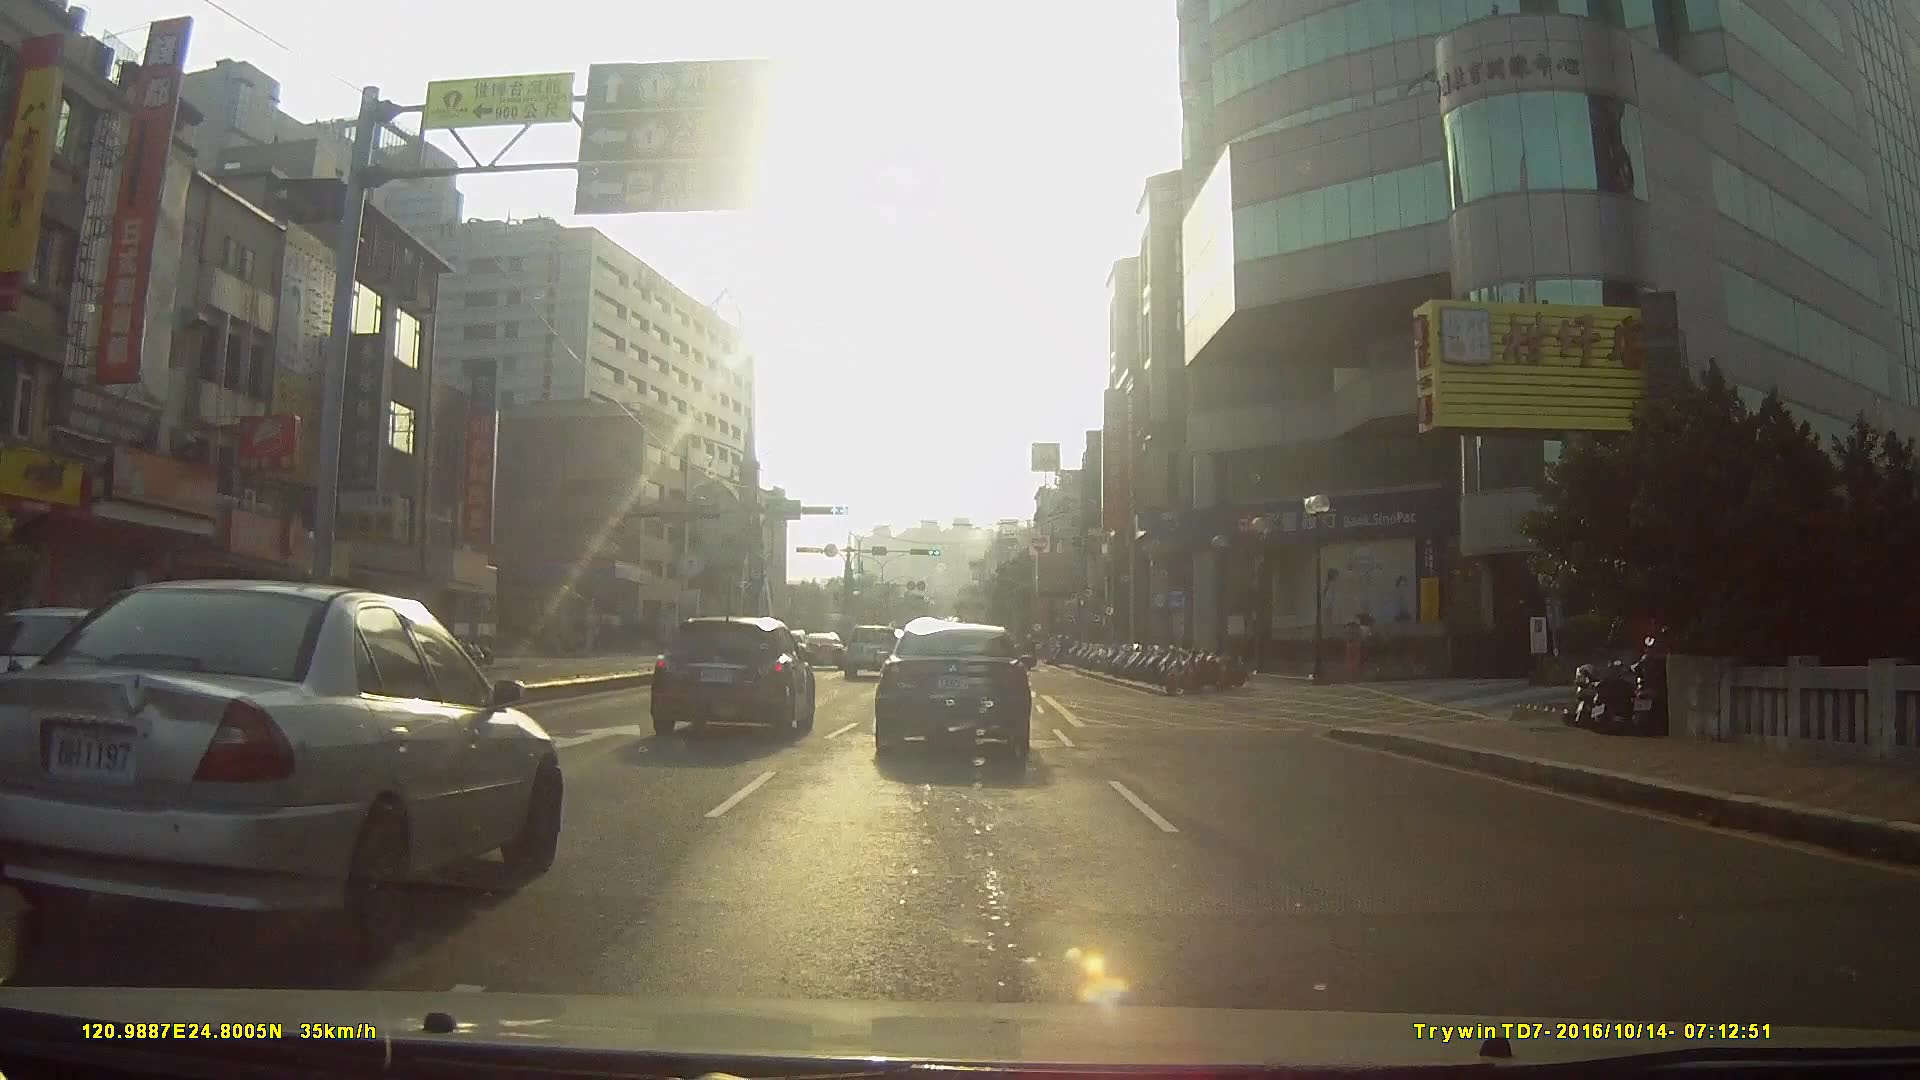pedestrian: (1338, 596, 1370, 681)
vehicle: (0, 570, 557, 959), (873, 610, 1032, 757), (647, 608, 815, 738), (840, 618, 901, 677), (797, 626, 847, 665)
